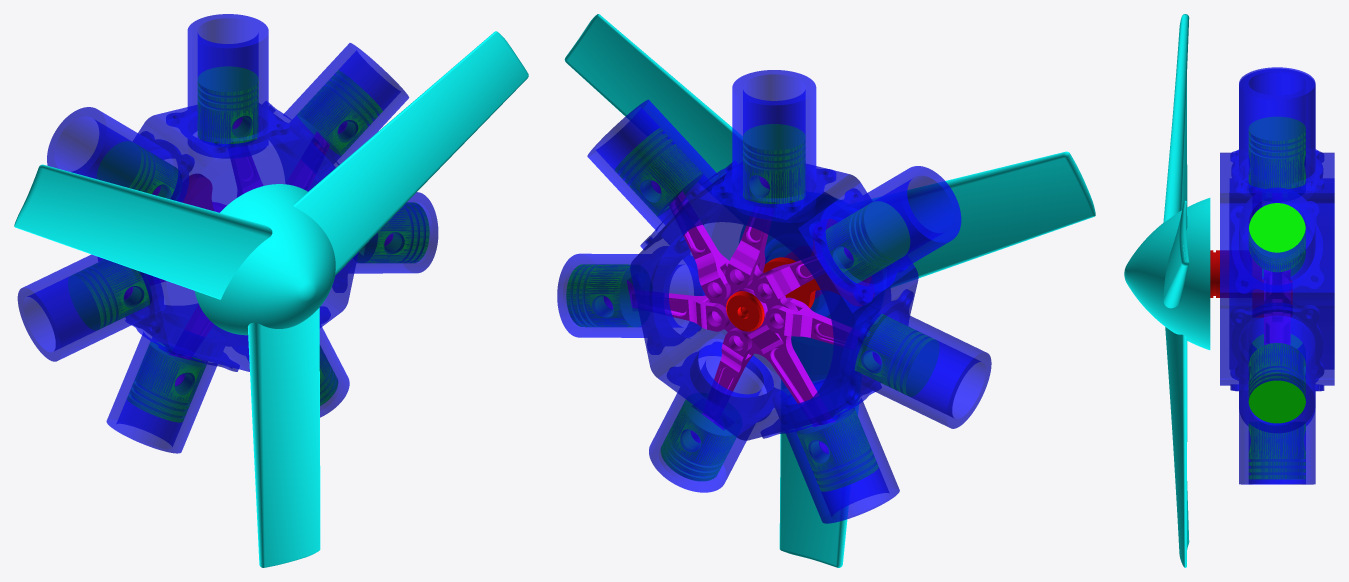
File: Moteur_etoile.glb
3 renders of one model, left to right at view 1: azimuth 30°, elevation 25°; view 2: azimuth 150°, elevation 25°; view 3: azimuth 270°, elevation 25°, orthographic. The views are drawn at different scales.
Parts seen in each view (by area): view 1: Shape (×65); view 2: Shape (×87); view 3: Shape (×59).
Boxes of the visible parts, bbox=[...] form: Shape (×65): bbox=[17, 14, 527, 565]; Shape (×87): bbox=[557, 14, 1092, 564]; Shape (×59): bbox=[1127, 15, 1334, 566].
Size of the model in its own units: 0.2921 by 0.2702 by 0.11.
